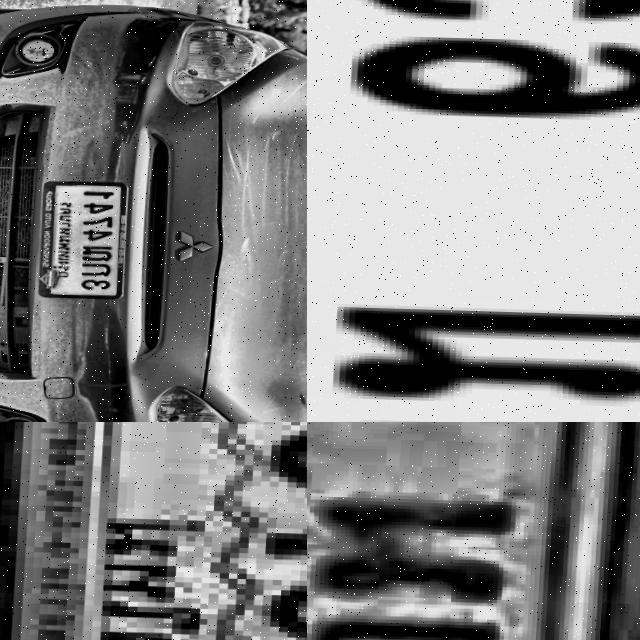license-plate: (307, 0, 640, 422), (307, 422, 640, 640), (0, 422, 307, 640), (37, 177, 139, 300)
